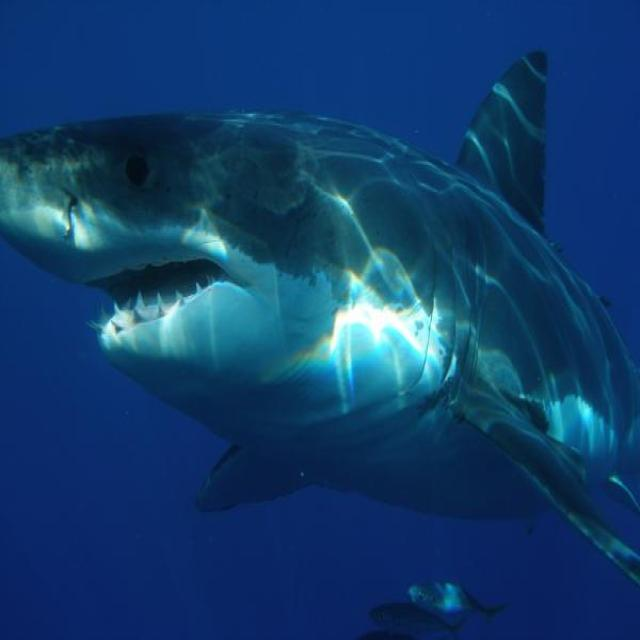Carnivorous: (0, 54, 640, 592)
